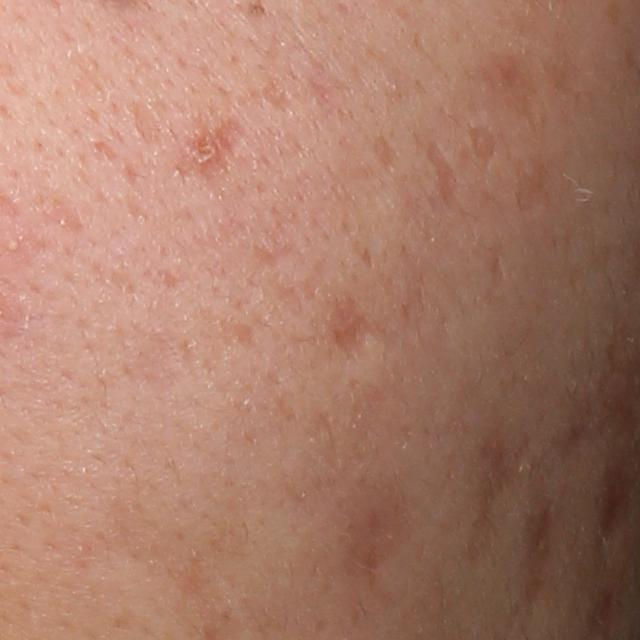atrophic_scar: (461, 441, 529, 565), (340, 466, 412, 578), (319, 284, 385, 372), (523, 494, 562, 603), (592, 462, 630, 543), (423, 141, 460, 206), (128, 97, 168, 151), (464, 119, 495, 165), (260, 72, 293, 115), (230, 324, 265, 360), (370, 137, 402, 169)
comedo: (0, 234, 22, 255)
papule: (185, 132, 220, 171)
